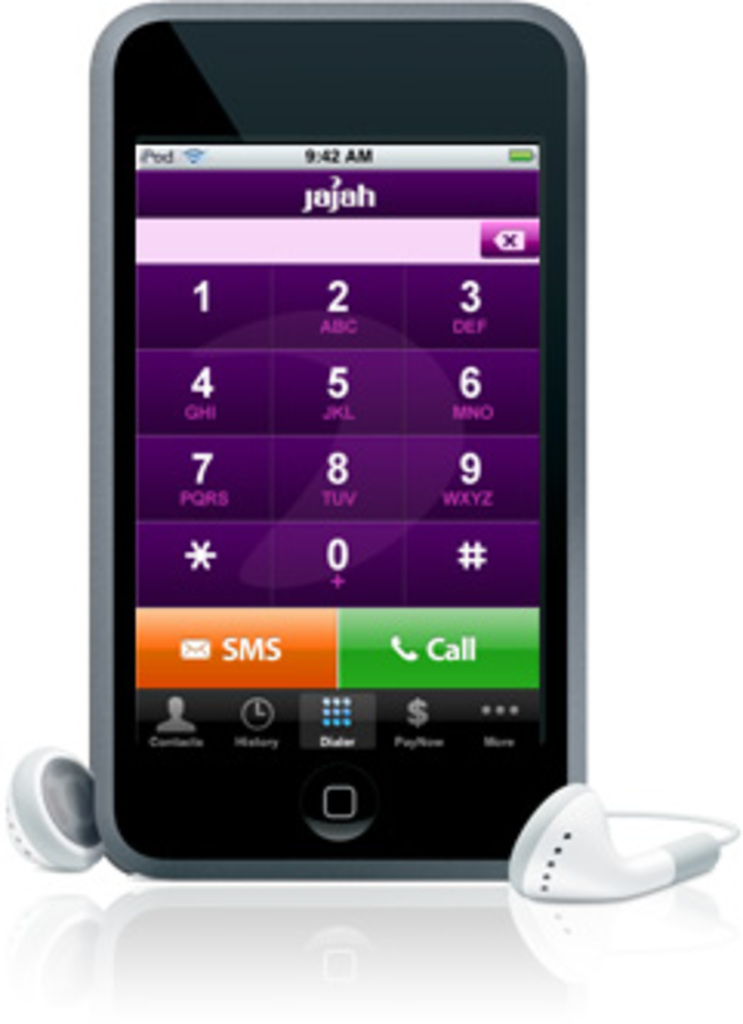Mobile-phone: (74, 0, 607, 876)
